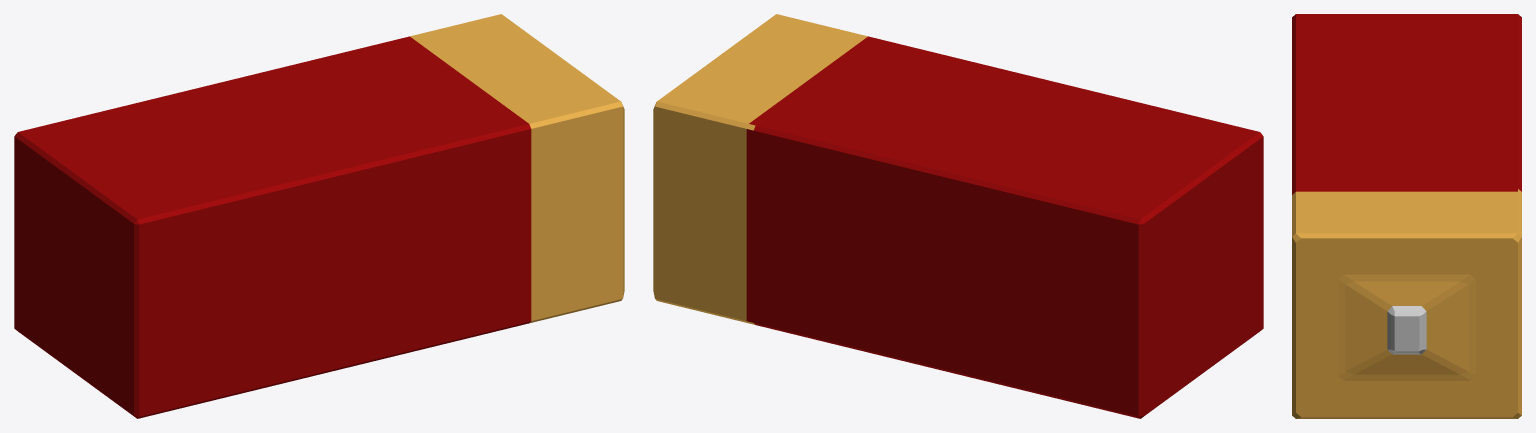
Rendered from battery_part_red.dae.
The picture shows the model from 3 angles, left to right: view 1: azimuth 30°, elevation 25°; view 2: azimuth 150°, elevation 25°; view 3: azimuth 270°, elevation 25°; orthographic projection. The views are drawn at different scales.
Visible parts, largest first — view 1: BATTERY; view 2: BATTERY; view 3: BATTERY.
Boxes of the visible parts, x1=… form: BATTERY: x1=14, y1=14, x2=624, y2=418; BATTERY: x1=653, y1=14, x2=1263, y2=418; BATTERY: x1=1292, y1=14, x2=1521, y2=418.
Size of the model in its own units: 0.1408 by 0.0598 by 0.0533.
